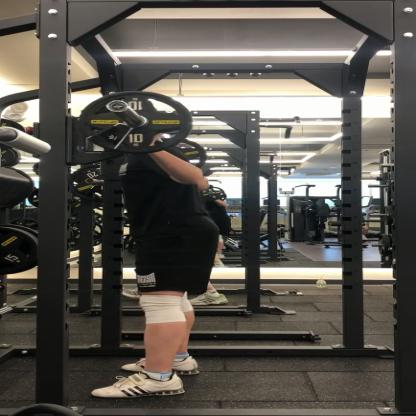Barbell: (64, 84, 204, 161)
